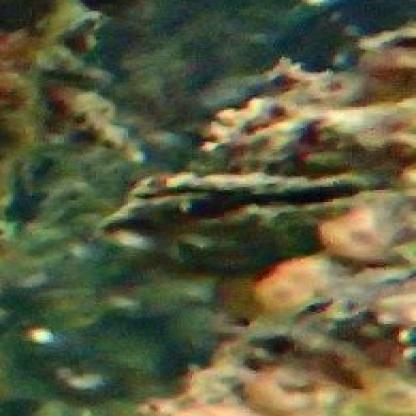Oyster- Indeterminate: (128, 171, 377, 270)
